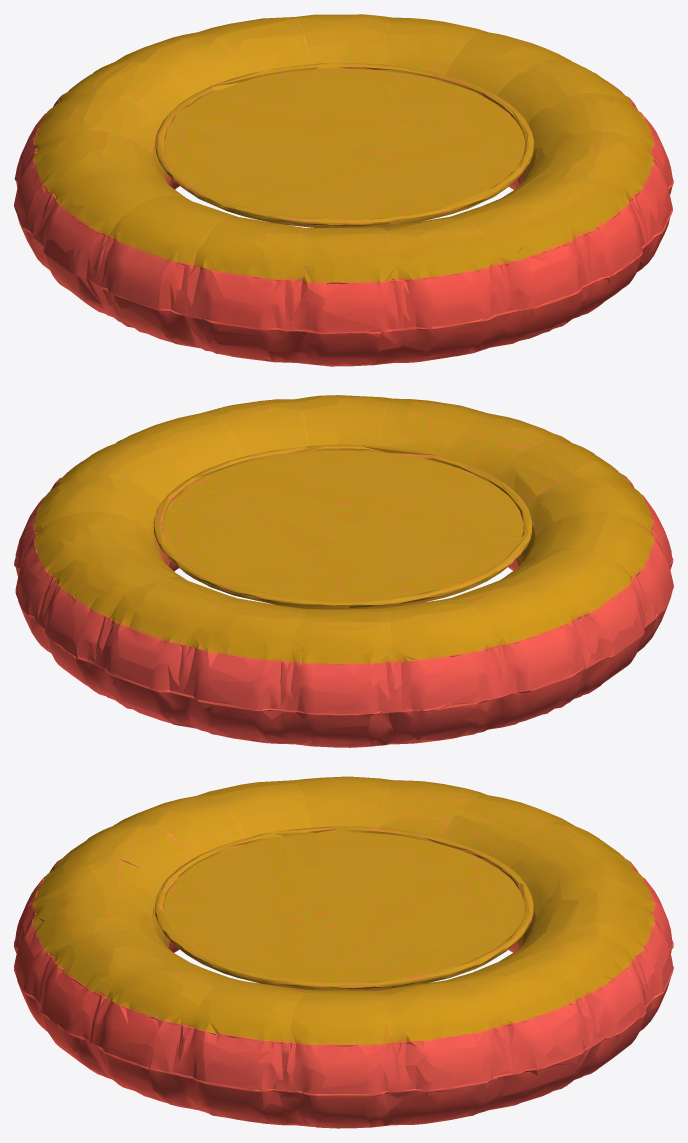
Rendered from bouncePad.4f83a6af.glb.
3 views of the same model, one above another, from view 1: azimuth 30°, elevation 25°; view 2: azimuth 150°, elevation 25°; view 3: azimuth 270°, elevation 25° (orthographic).
Visible parts, largest first — view 1: output_unwrapped; view 2: output_unwrapped; view 3: output_unwrapped.
Boxes of the visible parts, x1=… form: output_unwrapped: x1=14, y1=14, x2=673, y2=366; output_unwrapped: x1=14, y1=395, x2=673, y2=747; output_unwrapped: x1=14, y1=776, x2=673, y2=1128.
Size of the model in its own units: 1.9 by 0.3958 by 1.9.
1 material, 1 textured.
